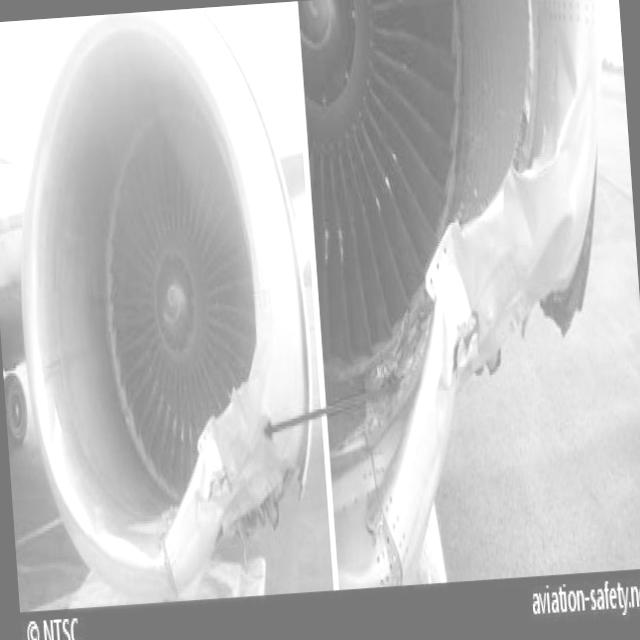dent: (502, 172, 538, 246)
